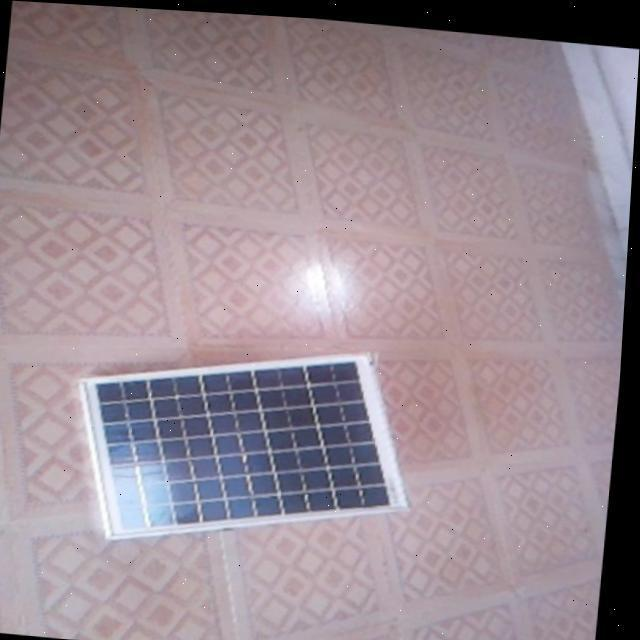Normal Solar Panel: (70, 328, 426, 562)
